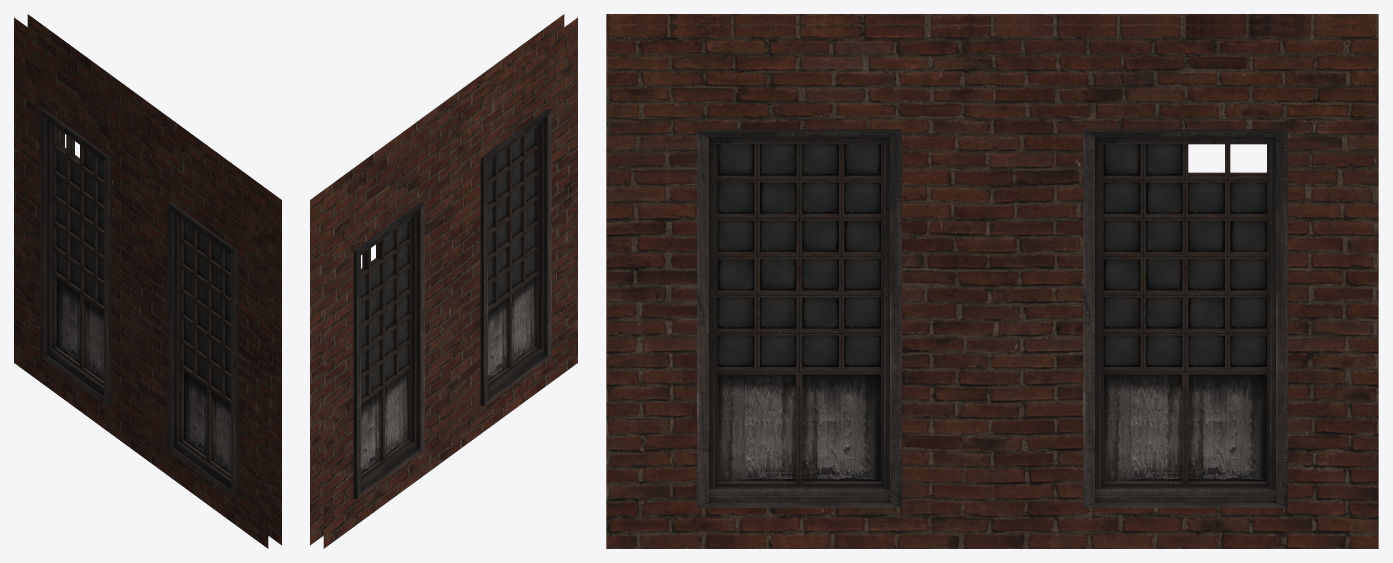
File: walltile_windowlarge_5m.fbx
3 renders of one model, left to right at view 1: azimuth 30°, elevation 25°; view 2: azimuth 150°, elevation 25°; view 3: azimuth 270°, elevation 25°, orthographic. The views are drawn at different scales.
Visible parts, largest first — view 1: walltile_windowlarge_5m; view 2: walltile_windowlarge_5m; view 3: walltile_windowlarge_5m.
Part boxes in pixels (x1,y1,x2,y2): walltile_windowlarge_5m: [14, 14, 281, 548]; walltile_windowlarge_5m: [310, 14, 577, 548]; walltile_windowlarge_5m: [606, 14, 1378, 548].
Size of the model in its own units: 0.2344 by 3.75 by 5.
